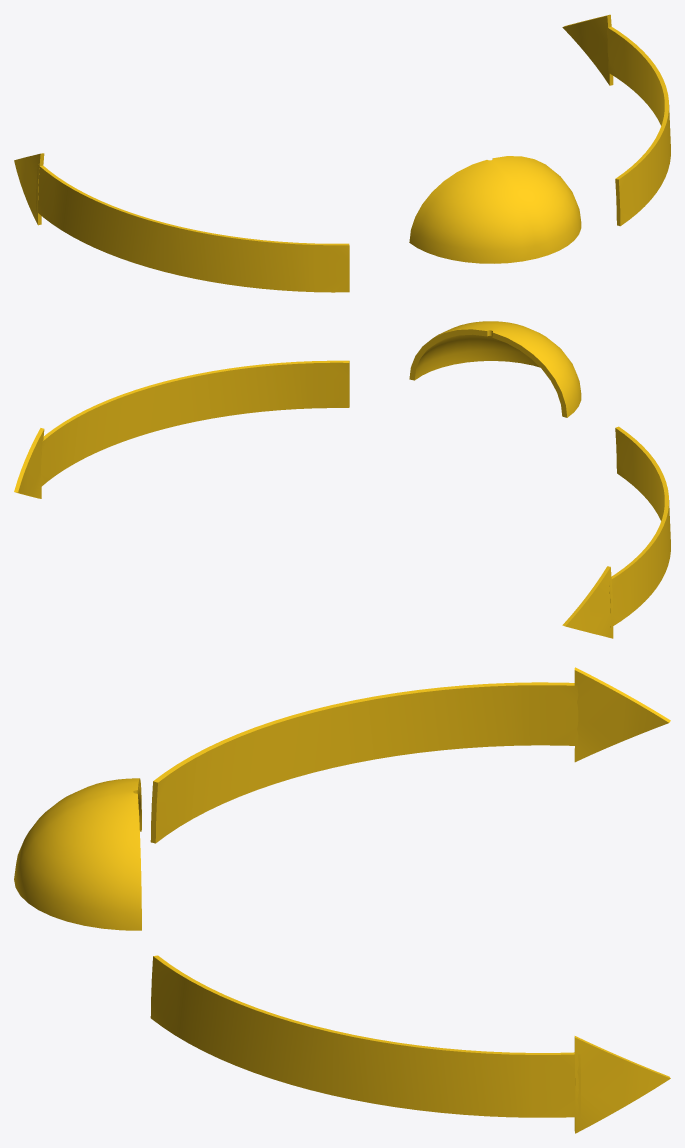
File: EM_TrimYellow.fbx
3 renders of one model, top to bottom at view 1: azimuth 30°, elevation 25°; view 2: azimuth 150°, elevation 25°; view 3: azimuth 270°, elevation 25°, orthographic. The views are drawn at different scales.
Visible parts, largest first — view 1: EM_TrimYellow; view 2: EM_TrimYellow; view 3: EM_TrimYellow.
Part boxes in pixels (x1,y1,x2,y2): EM_TrimYellow: (14,14,670,292); EM_TrimYellow: (14,321,670,638); EM_TrimYellow: (14,667,670,1133).
Size of the model in its own units: 7.89 by 1.52 by 5.84.
